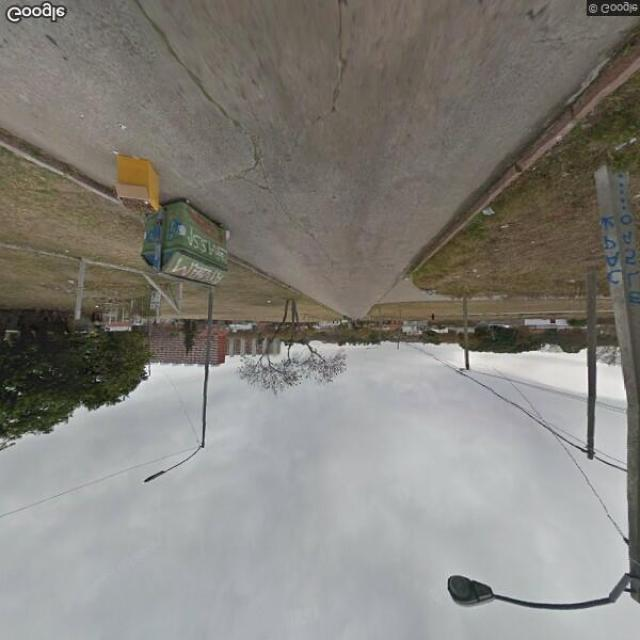garbage container: (126, 195, 248, 303)
